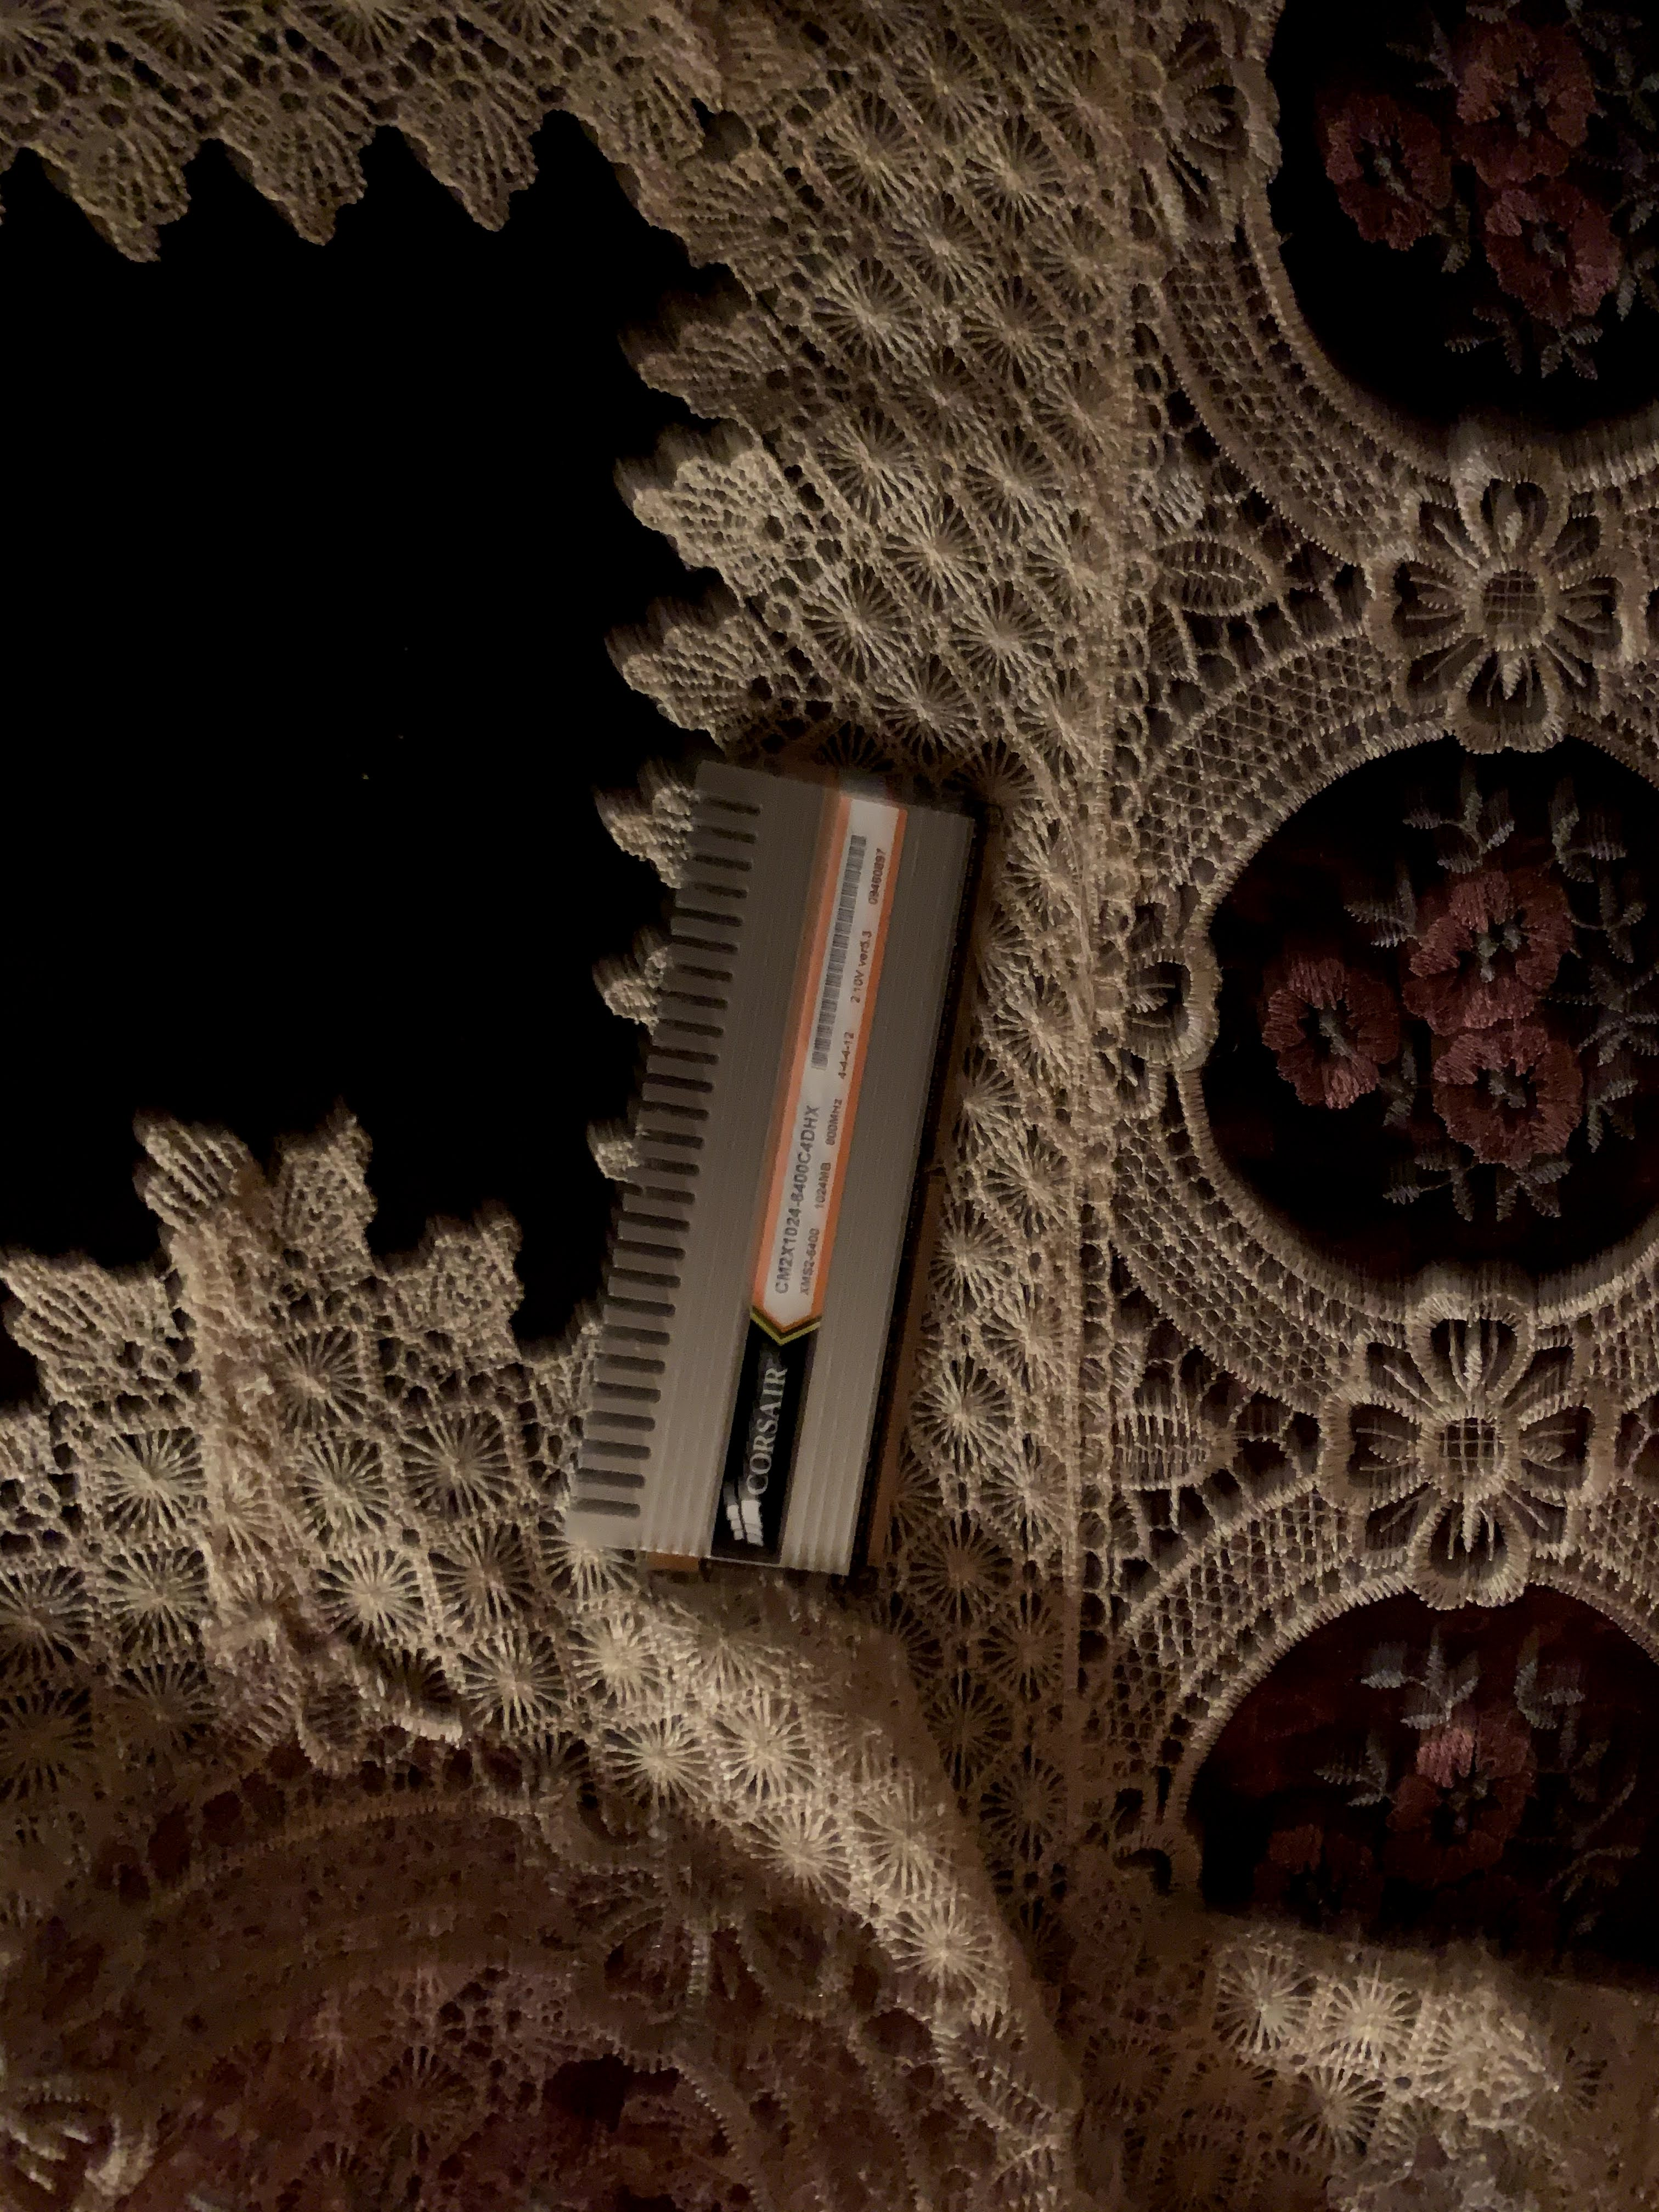Space-debris-medium: (563, 718, 1004, 1615)
